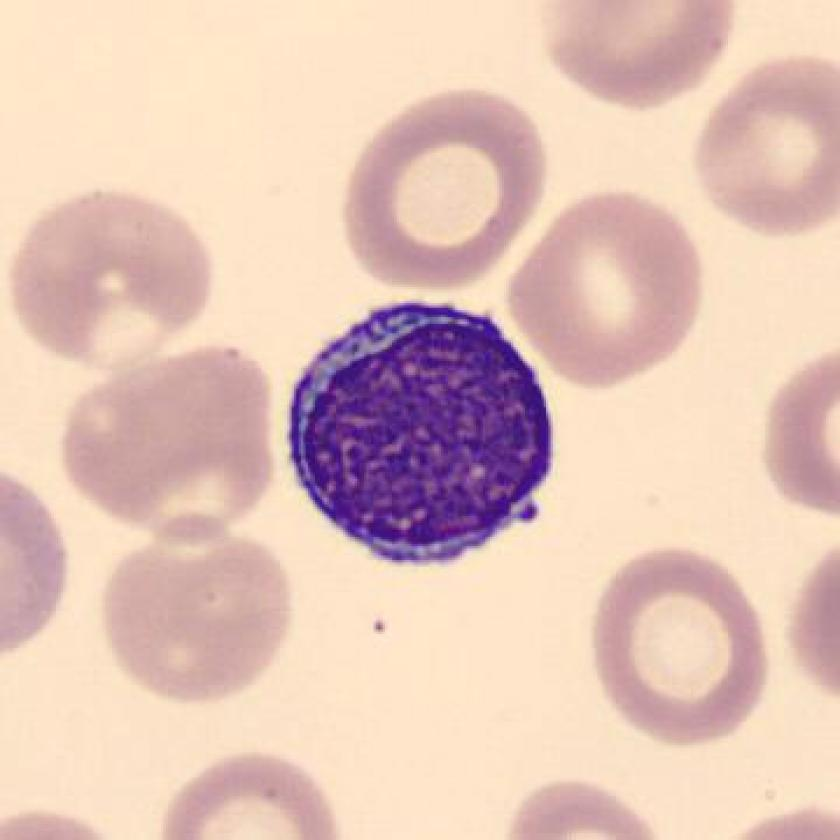lymphocyte: (272, 286, 573, 587)
